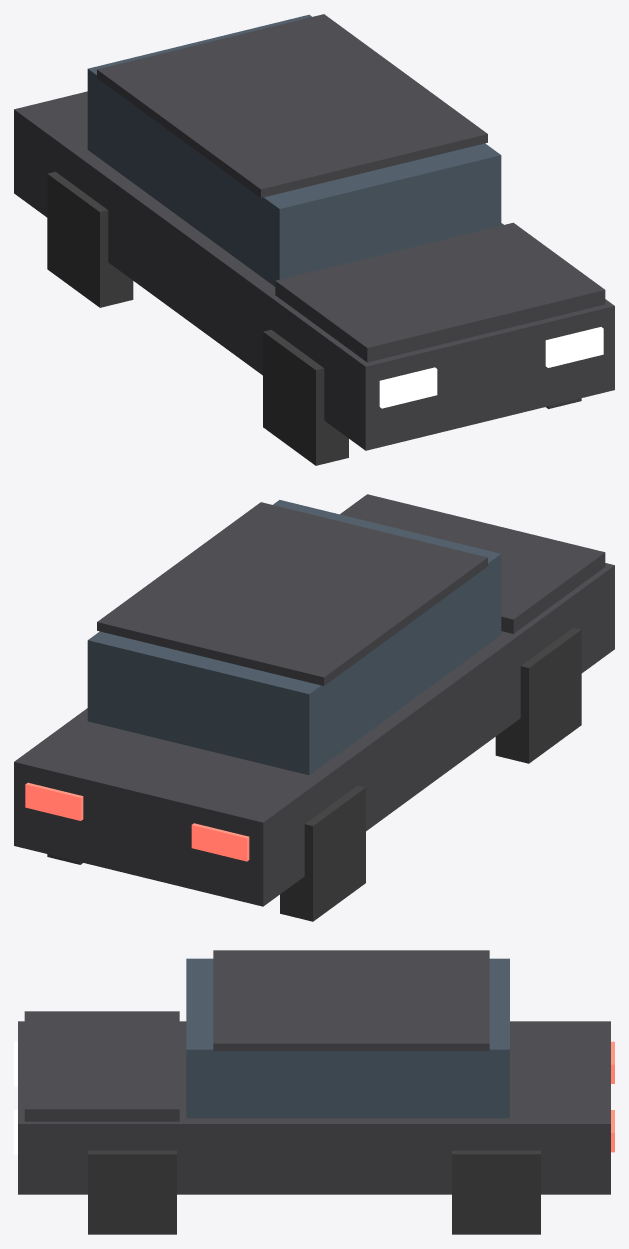
The model's file is car-2.glb.
3 renders of one model, top to bottom at view 1: azimuth 30°, elevation 25°; view 2: azimuth 150°, elevation 25°; view 3: azimuth 270°, elevation 25°, orthographic. The views are drawn at different scales.
Bounding box in the file's own units: 1.92 × 1.5 × 4.46.
